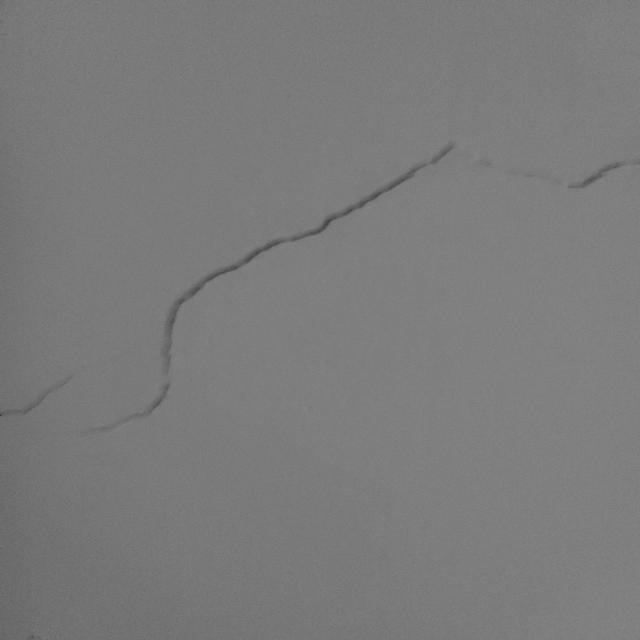rough and patchy surface: (0, 115, 640, 515)
